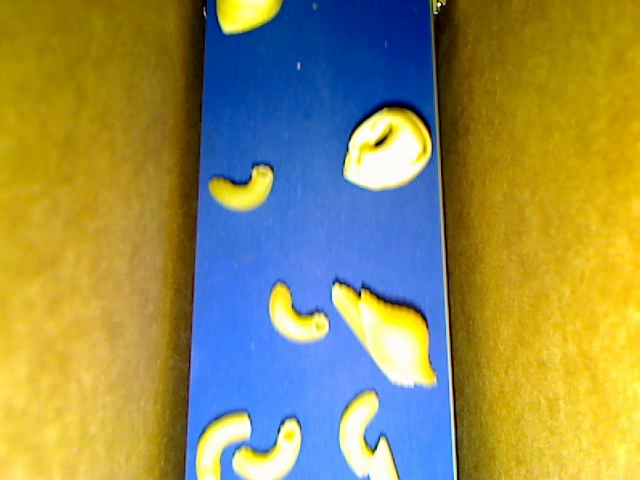elbow: (231, 417, 302, 479), (194, 410, 252, 479), (268, 280, 329, 344), (339, 390, 378, 478), (208, 163, 274, 212)
penne: (330, 280, 415, 388), (369, 435, 399, 479)
shell: (359, 287, 437, 388)
tortellini: (344, 108, 432, 192)
